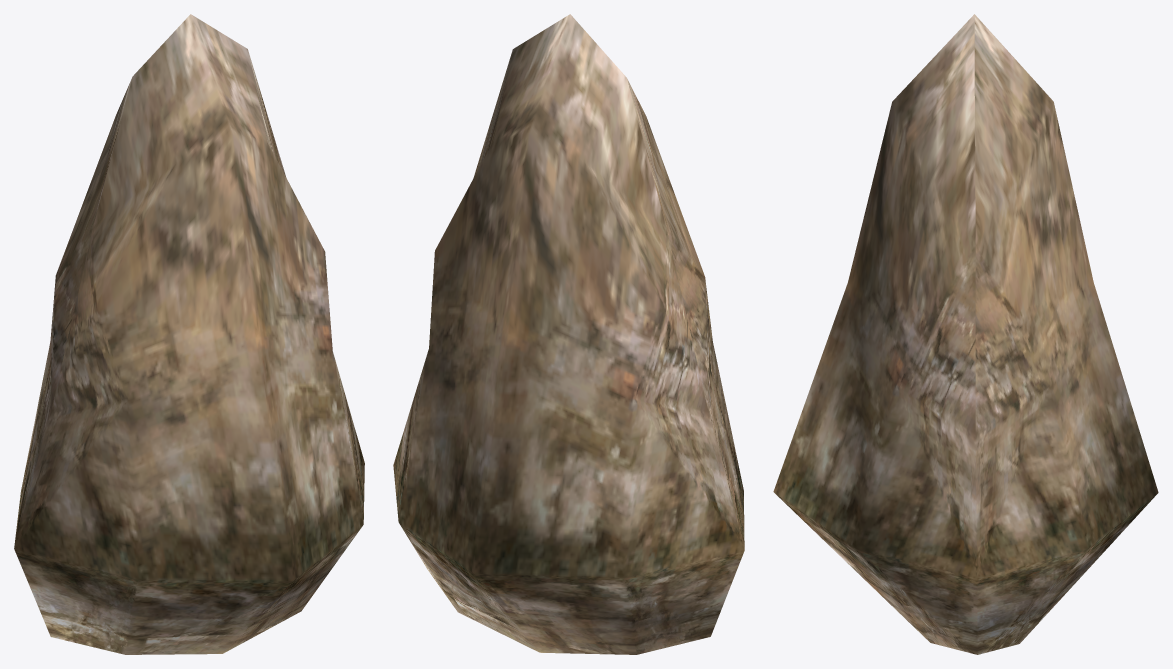
Rendered from thm_all_cave_stalagmite_a1_l1.fbx.
3 views of the same model, side by side, from view 1: azimuth 30°, elevation 25°; view 2: azimuth 150°, elevation 25°; view 3: azimuth 270°, elevation 25° (orthographic). The views are drawn at different scales.
Parts seen in each view (by area): view 1: mesh_node; view 2: mesh_node; view 3: mesh_node.
Boxes of the visible parts, <box> form: mesh_node: <box>14,14,364,654</box>; mesh_node: <box>393,14,744,654</box>; mesh_node: <box>773,14,1158,654</box>.
Bounding box in the file's own units: 1.1 × 1.87 × 1.07.
